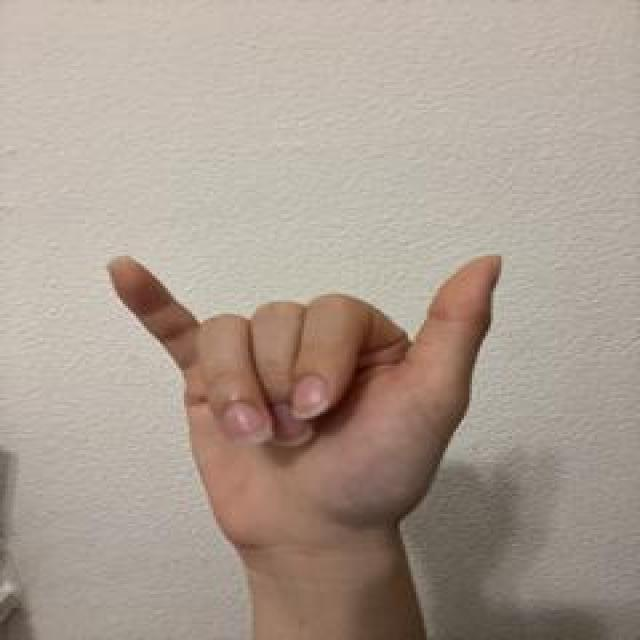Y: (97, 251, 511, 555)
